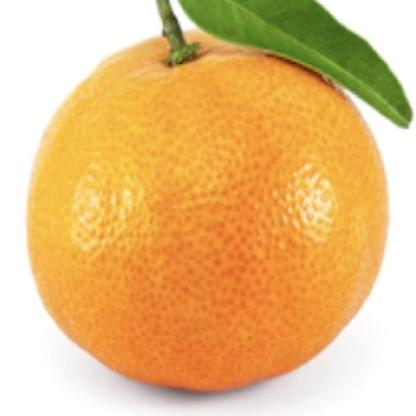fresh: (29, 30, 390, 397)
